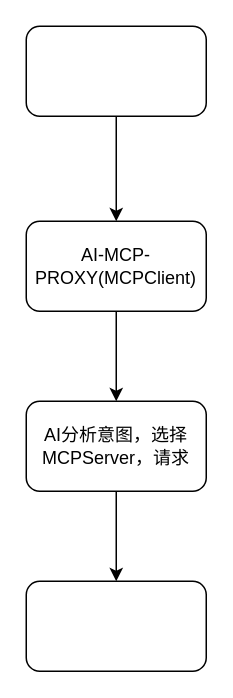
Image size: 233x698. Some labels were removed from this diagram. Each missing label, with the box of its shape:
用户AI搜索商品: (25, 25, 206, 116)
返回: (25, 580, 206, 671)
